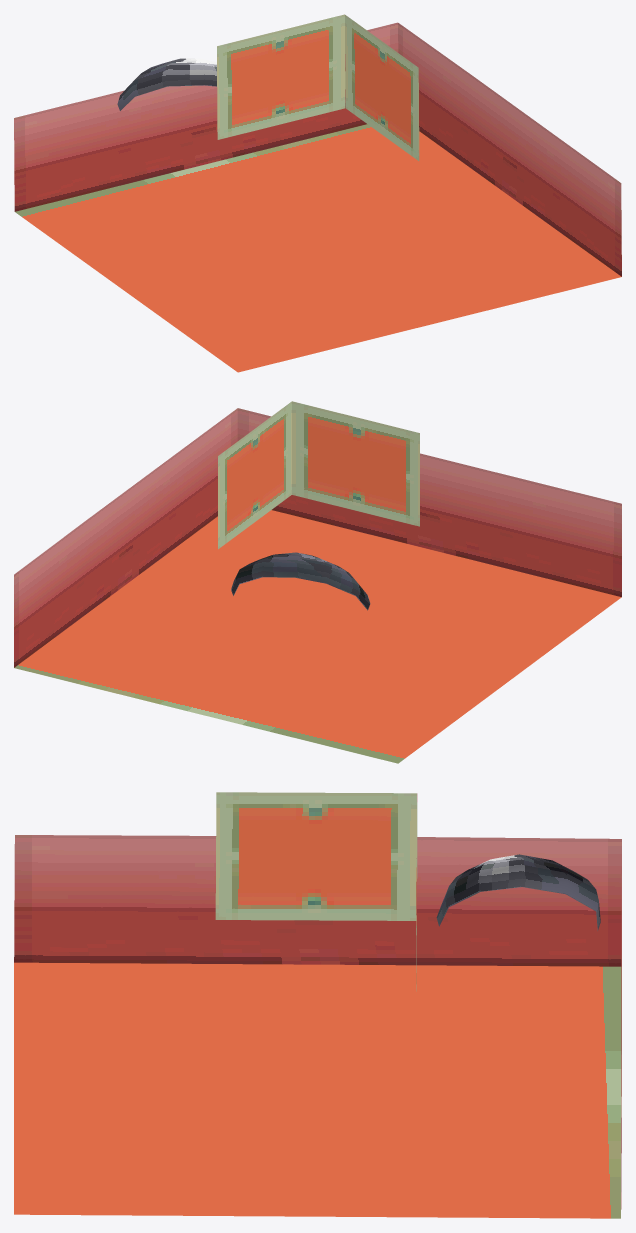
The model's file is ps2_save-icons_mercurymeltdownremix-replay.glb.
3 renders of one model, top to bottom at view 1: azimuth 30°, elevation 25°; view 2: azimuth 150°, elevation 25°; view 3: azimuth 270°, elevation 25°, orthographic. The views are drawn at different scales.
Parts seen in each view (by area): view 1: ps2mc1.ico; view 2: ps2mc1.ico; view 3: ps2mc1.ico.
Boxes of the visible parts, x1,y1,x2,y2 form: ps2mc1.ico: (14,14,621,372); ps2mc1.ico: (14,401,621,763); ps2mc1.ico: (14,792,621,1218).
Bounding box in the file's own units: 3.32 × 1.58 × 3.35.
1 material, 1 textured.
